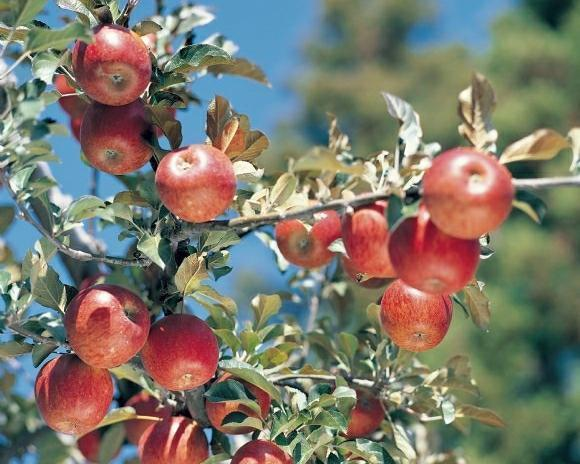apple: (420, 147, 513, 241), (382, 210, 478, 291), (66, 282, 150, 366), (137, 311, 218, 393), (153, 145, 235, 223), (71, 26, 150, 105), (36, 354, 114, 434), (77, 96, 152, 178), (377, 278, 453, 351), (344, 199, 398, 279), (275, 209, 345, 267), (207, 374, 268, 435), (138, 418, 207, 464), (341, 395, 385, 439), (231, 439, 292, 464)
